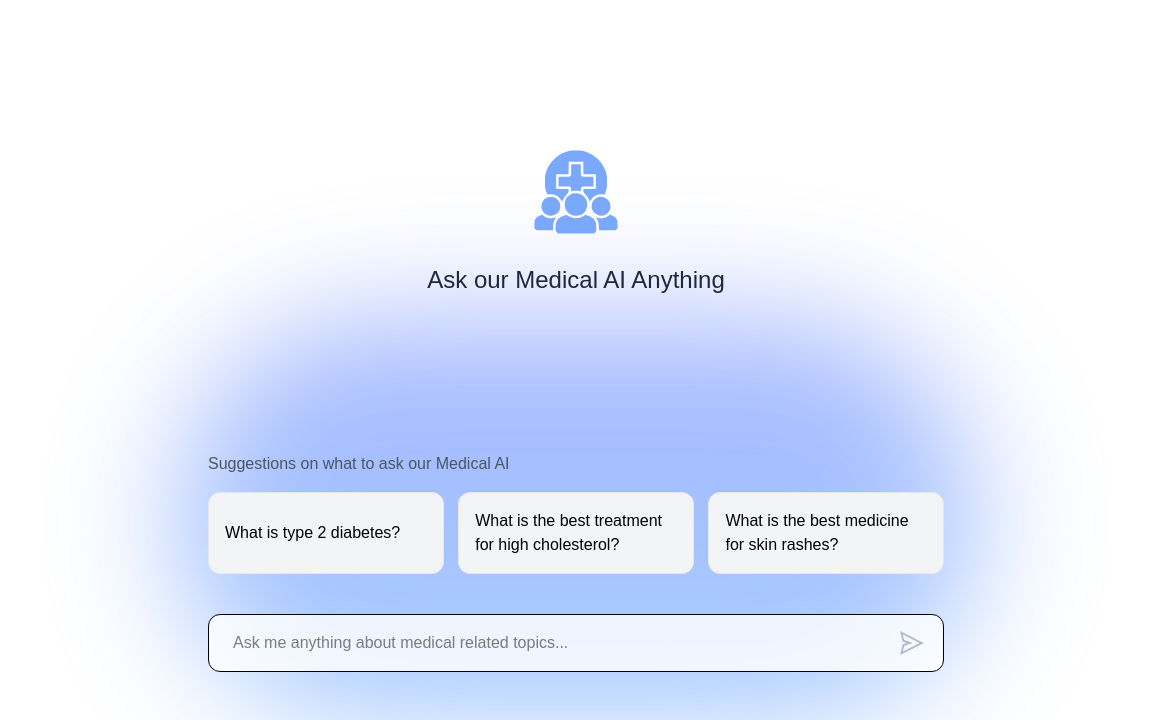
Test: ChatCard › handles API errors gracefully
# Click a suggestion button
Click the button "What is type 2 diabetes?" at (326, 533), box [208,492,444,574]
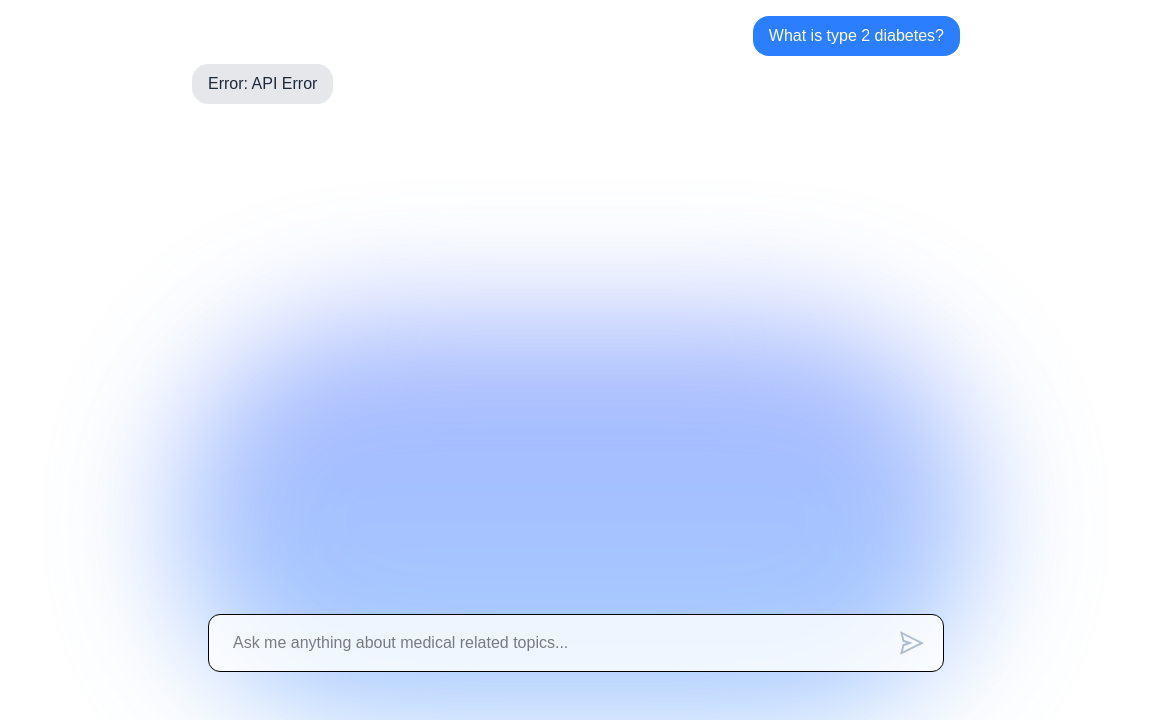
Expected: the text "Error: API Error" is shown, [192,64,333,104]
